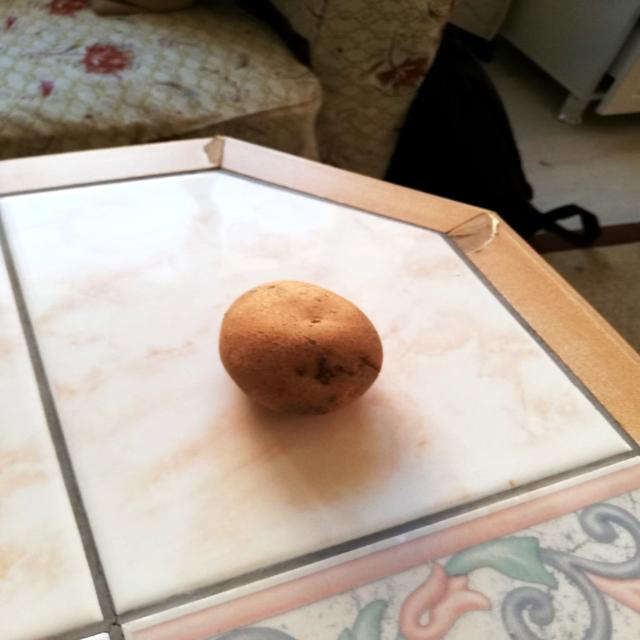potato: (215, 275, 389, 421)
